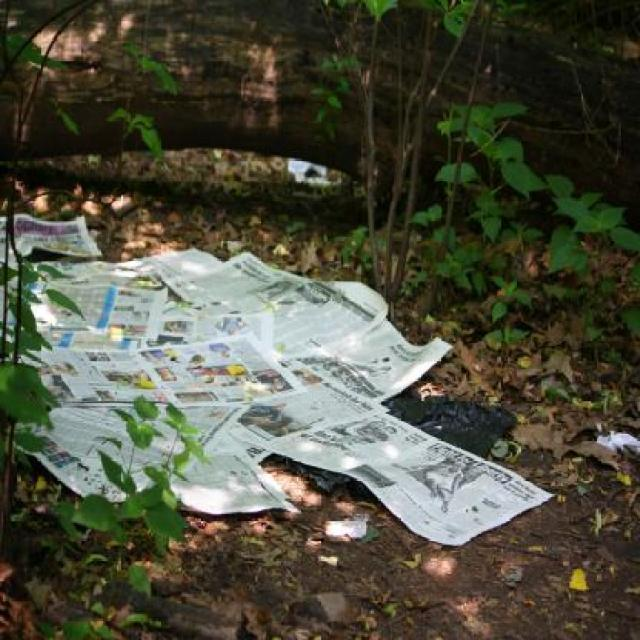garbage: (14, 216, 502, 540)
